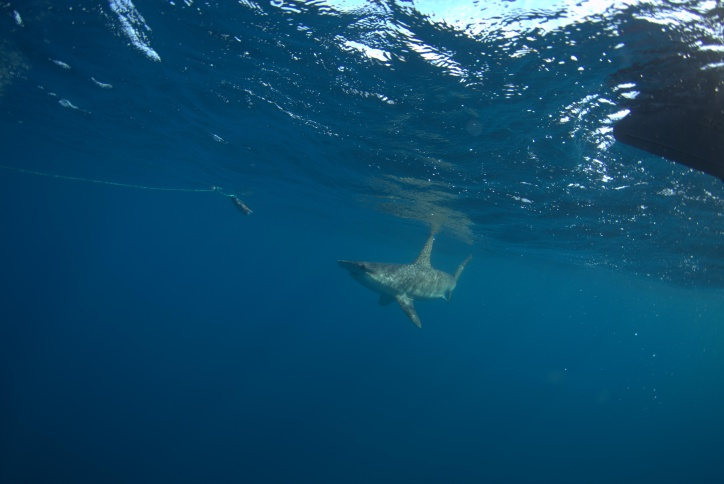Hammer: (318, 227, 496, 342)
